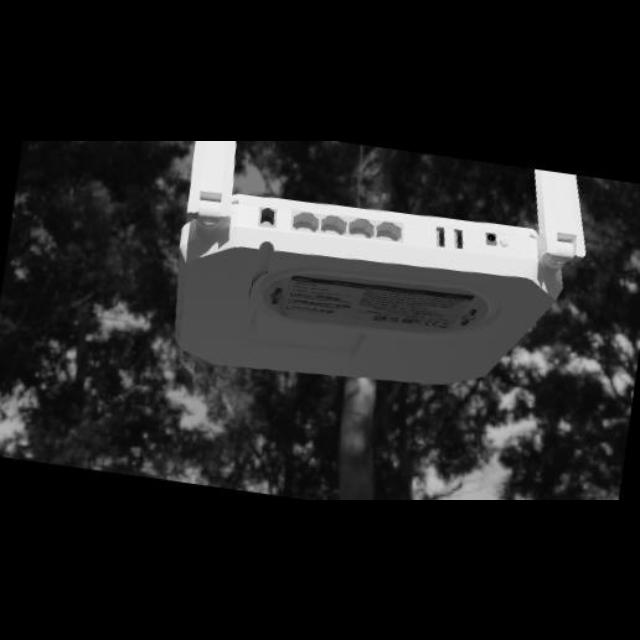Router: (169, 140, 593, 390)
